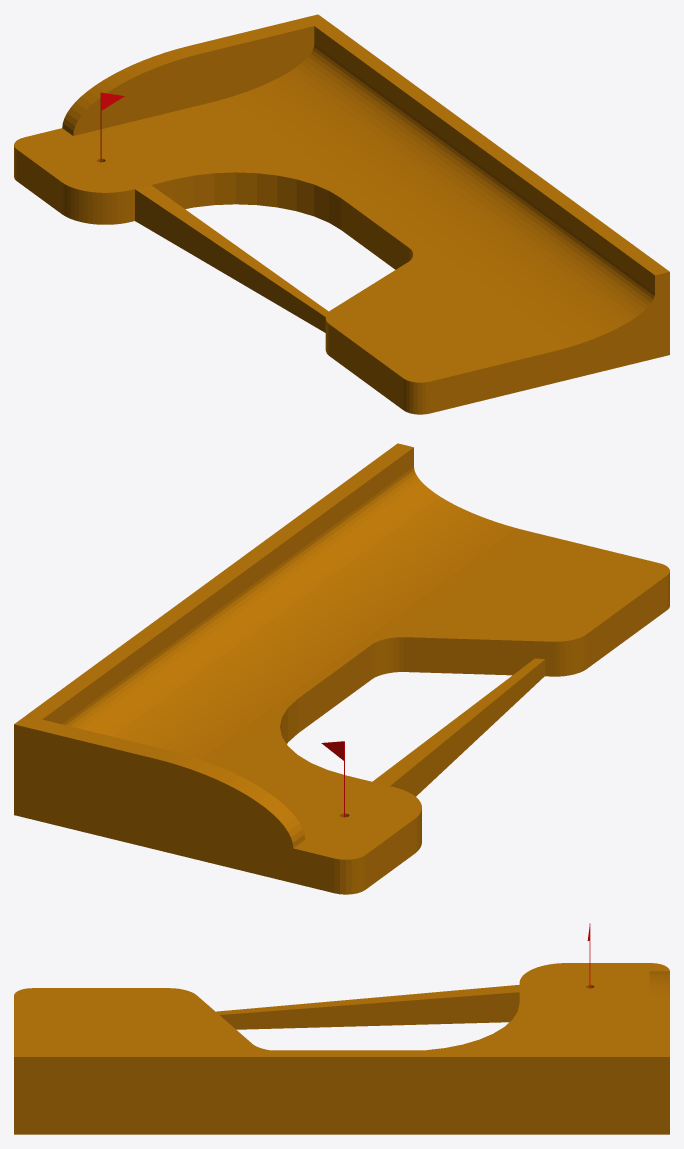
File: level_12.glb
3 views of the same model, one above another, from view 1: azimuth 30°, elevation 25°; view 2: azimuth 150°, elevation 25°; view 3: azimuth 270°, elevation 25° (orthographic). The views are drawn at different scales.
Parts seen in each view (by area): view 1: green; view 2: green; view 3: green.
Boxes of the visible parts, x1,y1,x2,y2 form: green: (14, 14, 669, 414); green: (14, 443, 669, 894); green: (14, 963, 669, 1134).
Bounding box in the file's own units: 3.92 × 1.2 × 7.67.
